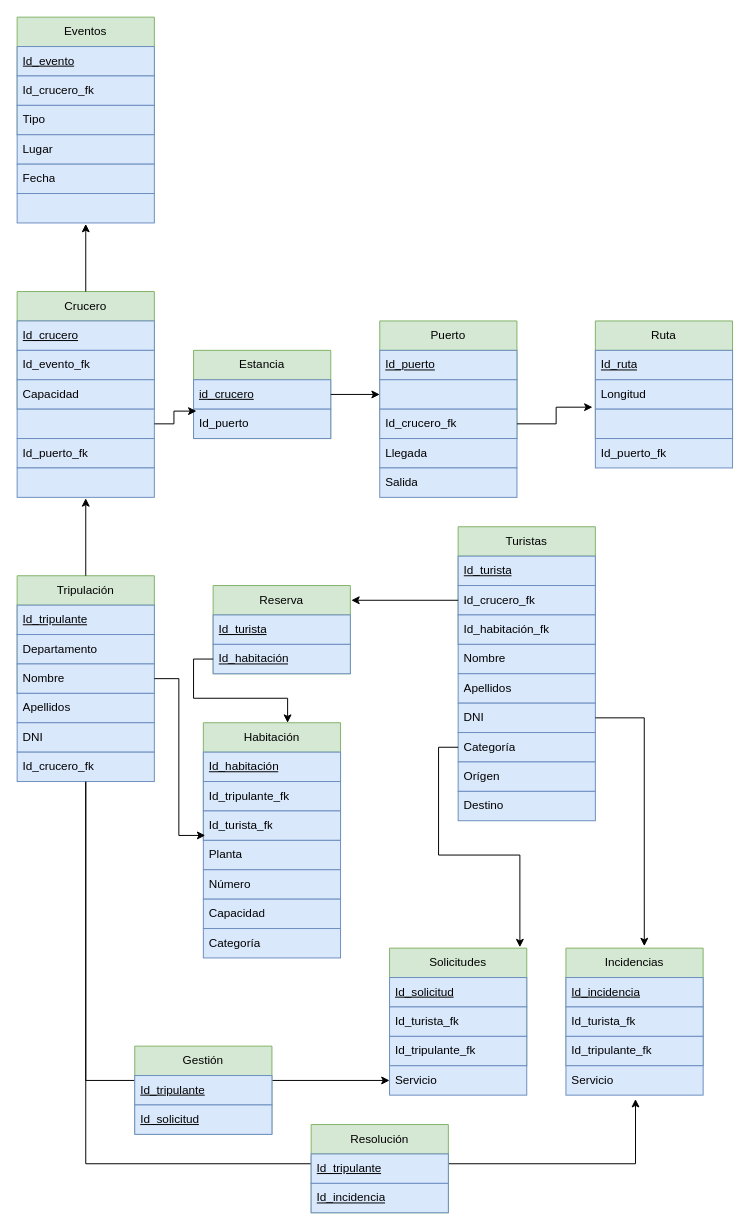
Some shapes in this 750 by 1230 pixel diagram are drawn without their labels. The shapes that lost their labels are listed below. From the top down, each one's centre as x and y in pixels, then its label:
At [85,208]: "Hora".
At [448,394]: "Ciudad".
At [85,423]: "Zonas".
At [663,423]: "Duración".
At [85,482]: "Itinerario".
